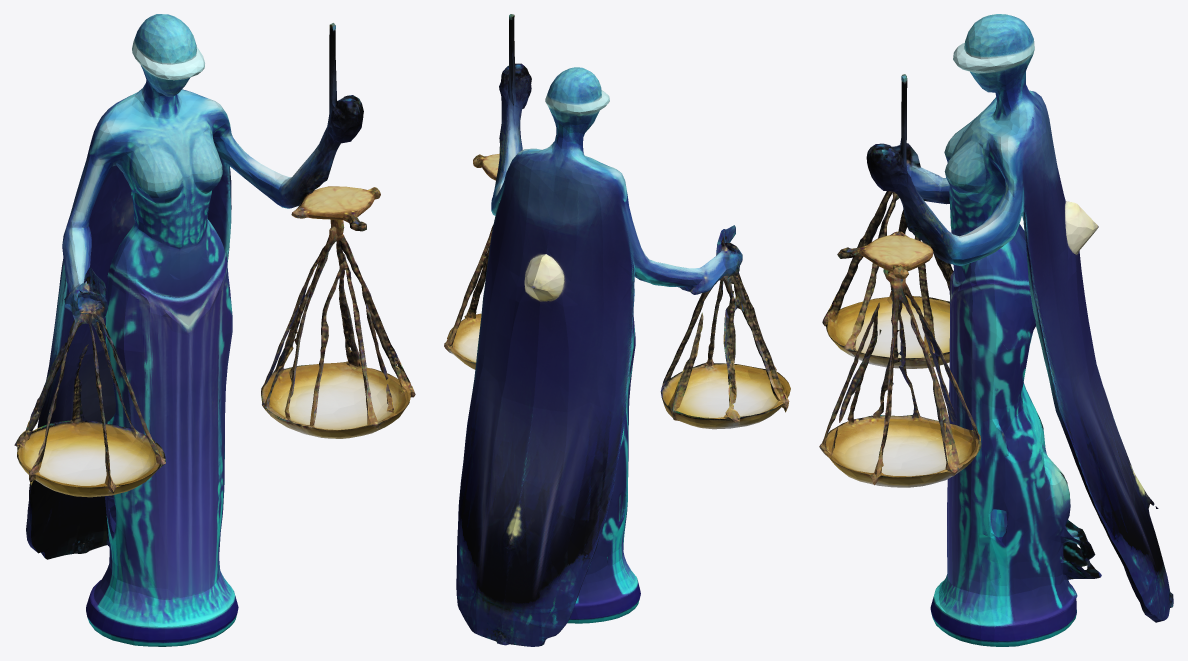
The model's file is modelo2.glb.
3 views of the same model, side by side, from view 1: azimuth 30°, elevation 25°; view 2: azimuth 150°, elevation 25°; view 3: azimuth 270°, elevation 25° (orthographic). The views are drawn at different scales.
Parts seen in each view (by area): view 1: world; view 2: world; view 3: world.
Part boxes in pixels (bbox=[...]): world: bbox=[14, 14, 415, 646]; world: bbox=[444, 14, 790, 646]; world: bbox=[819, 14, 1173, 646].
Size of the model in its own units: 0.6555 by 0.9983 by 0.5337.
1 material, 1 textured.
